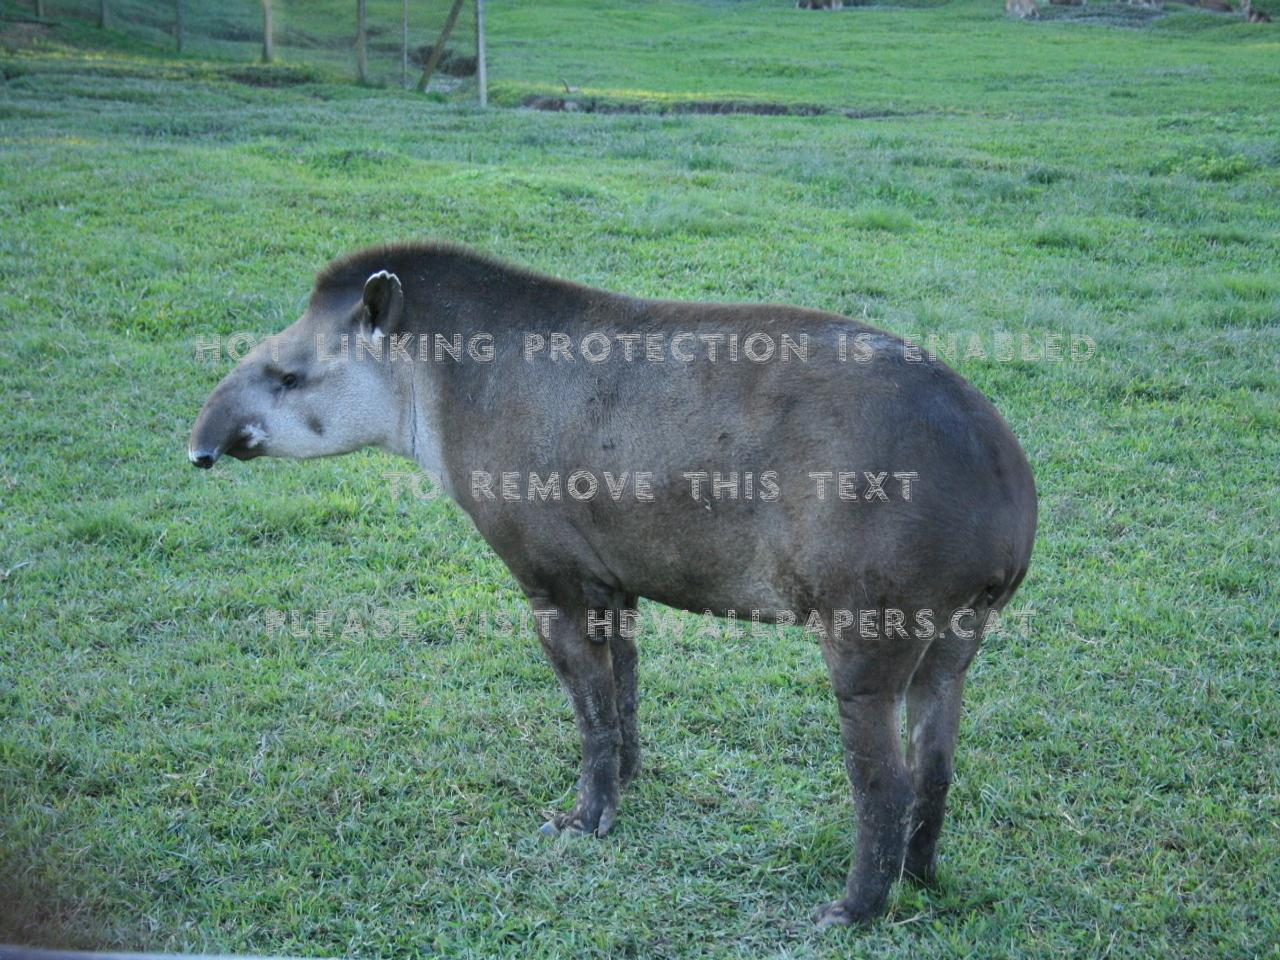Anta: (164, 232, 1051, 920)
